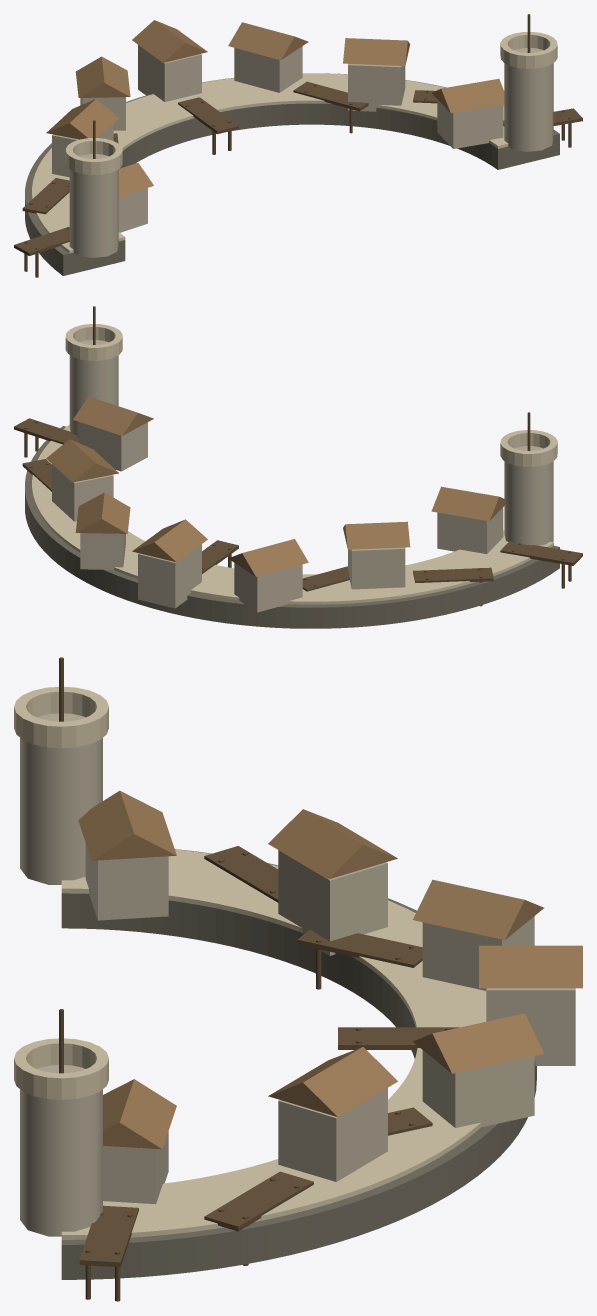
Rendered from crescent-harbor.glb.
3 views of the same model, one above another, from view 1: azimuth 30°, elevation 25°; view 2: azimuth 150°, elevation 25°; view 3: azimuth 270°, elevation 25° (orthographic). The views are drawn at different scales.
Parts seen in each view (by area): view 1: stone-surfaces, pale-surfaces, roof-surfaces, dark-surfaces, timber-surfaces; view 2: stone-surfaces, dark-surfaces, roof-surfaces, pale-surfaces, timber-surfaces; view 3: stone-surfaces, pale-surfaces, roof-surfaces, dark-surfaces, timber-surfaces.
Boxes of the visible parts, box(x1,y1,x2,y2) form: stone-surfaces: box(52, 45, 553, 257); pale-surfaces: box(32, 32, 557, 253); roof-surfaces: box(46, 20, 504, 197); dark-surfaces: box(25, 73, 559, 275); timber-surfaces: box(14, 14, 582, 277); stone-surfaces: box(52, 340, 553, 612); dark-surfaces: box(25, 426, 559, 628); roof-surfaces: box(46, 396, 505, 576); pale-surfaces: box(32, 324, 557, 604); timber-surfaces: box(14, 306, 582, 606); stone-surfaces: box(20, 713, 575, 1236); pale-surfaces: box(14, 686, 486, 1239); roof-surfaces: box(78, 790, 582, 1149); dark-surfaces: box(61, 849, 536, 1279); timber-surfaces: box(59, 657, 459, 1301).
Size of the model in its own units: 36.04 by 9.25 by 19.15.
